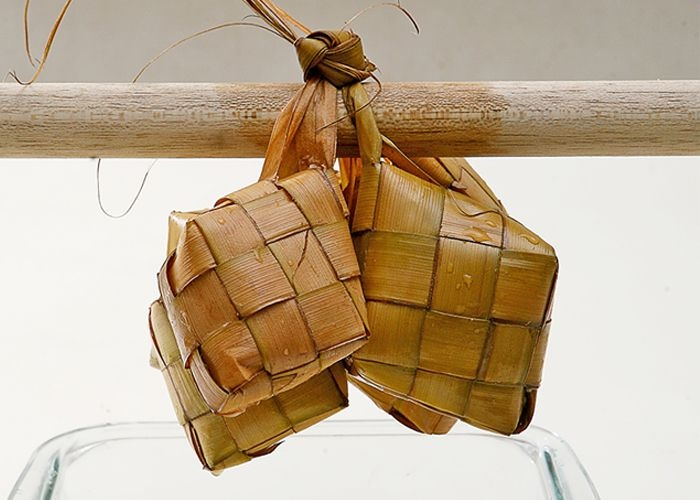ketupat: (339, 156, 561, 436), (154, 163, 370, 418)
